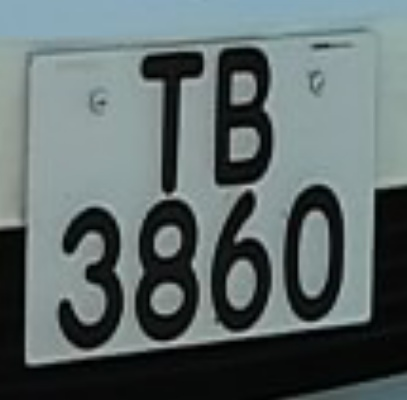0: (277, 178, 356, 330)
3: (41, 195, 136, 355)
6: (207, 190, 278, 336)
8: (124, 192, 212, 346)
B: (199, 31, 285, 194)
T: (122, 37, 211, 199)
